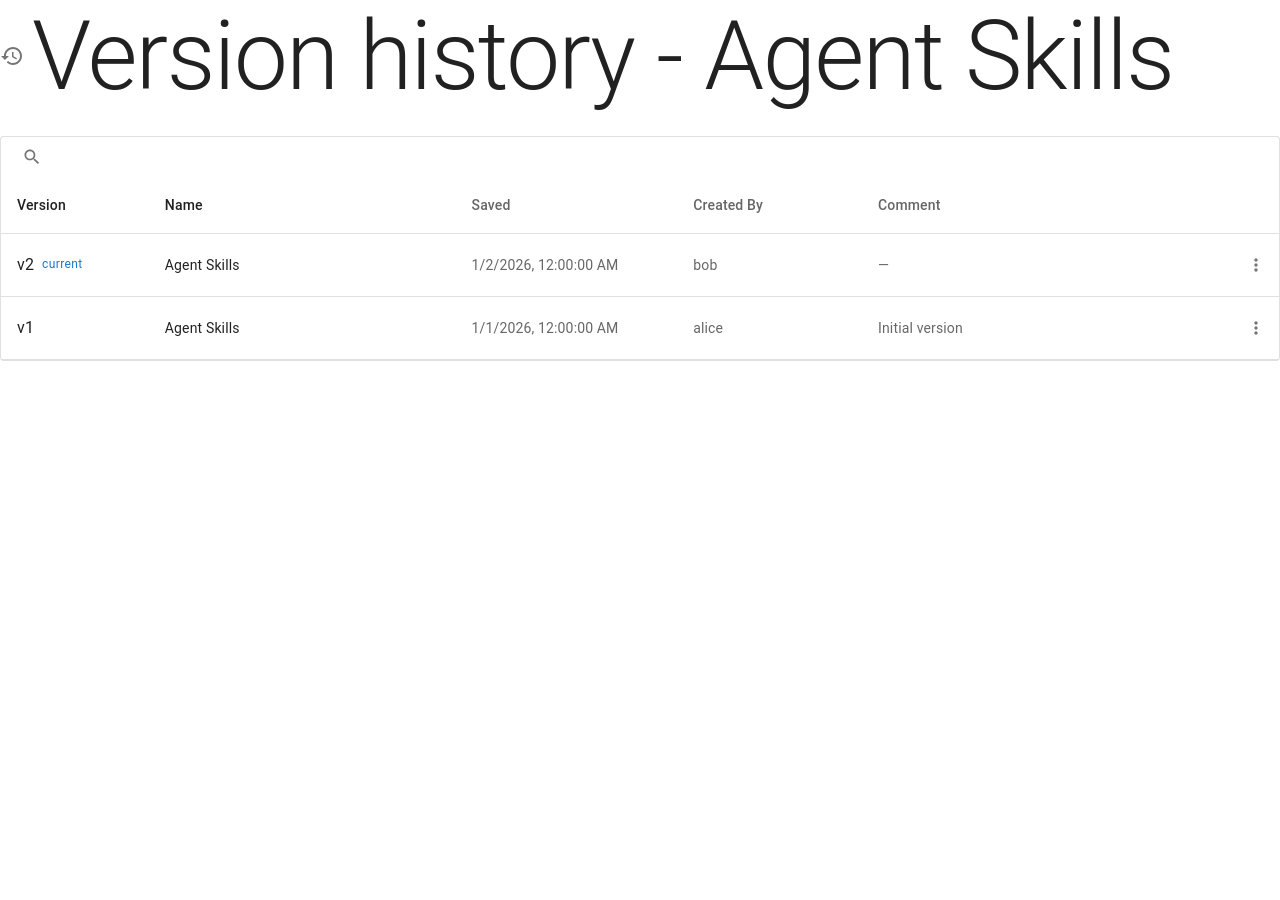
Test: SkillsetHistory › opens version details from the version link
Click the button "v1".
click(26, 328)  # box [17, 317, 34, 339]
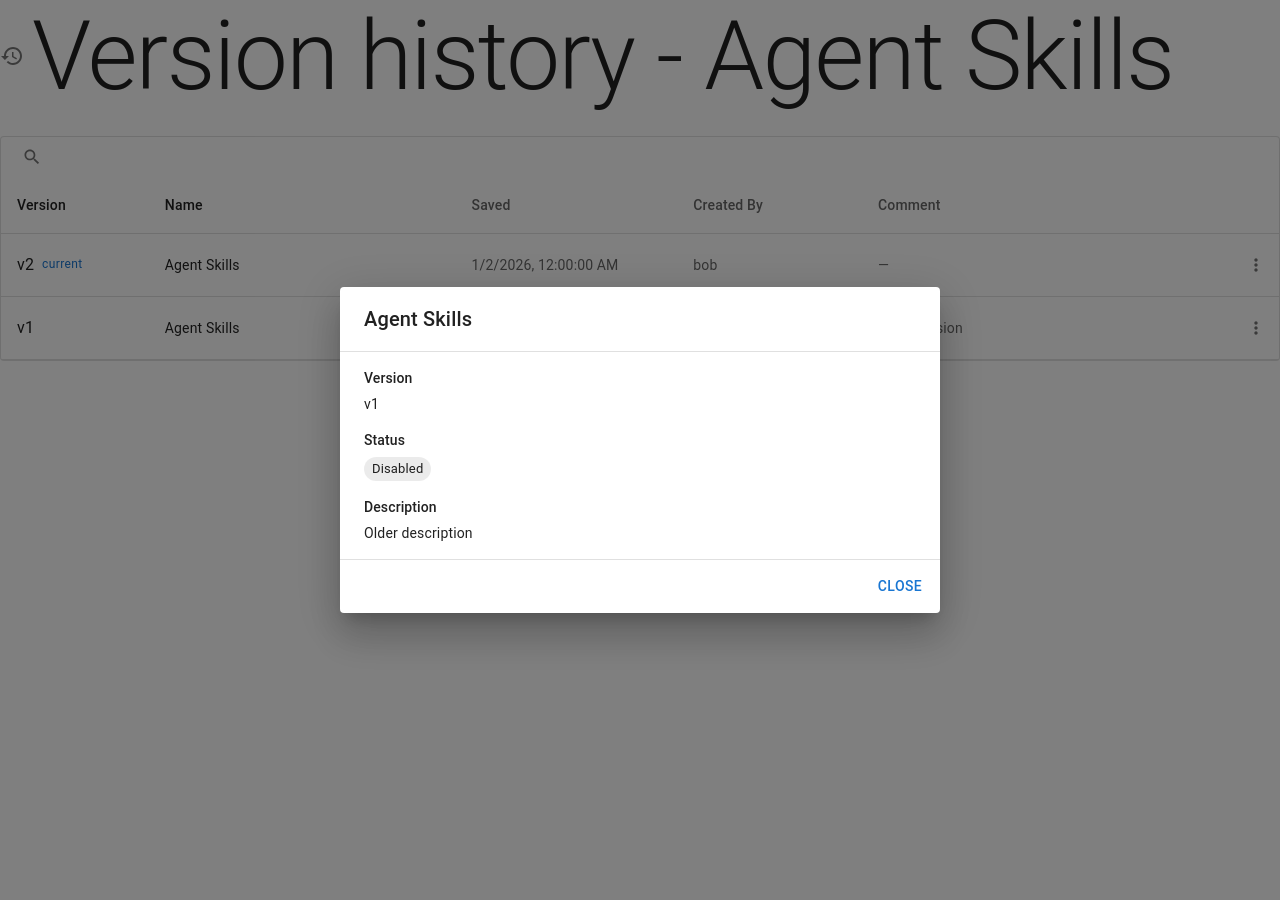
Result: the dialog "Agent Skills" is shown at [340, 287, 940, 613]
Result: the text "Older description" is shown at [364, 525, 473, 541]
